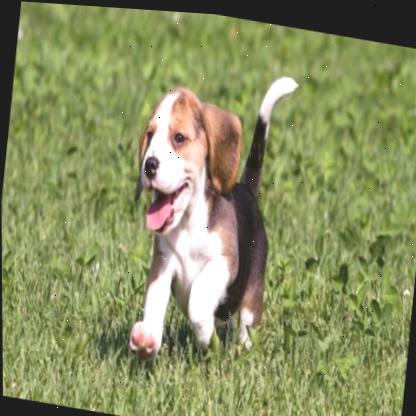dog: (89, 39, 320, 390)
